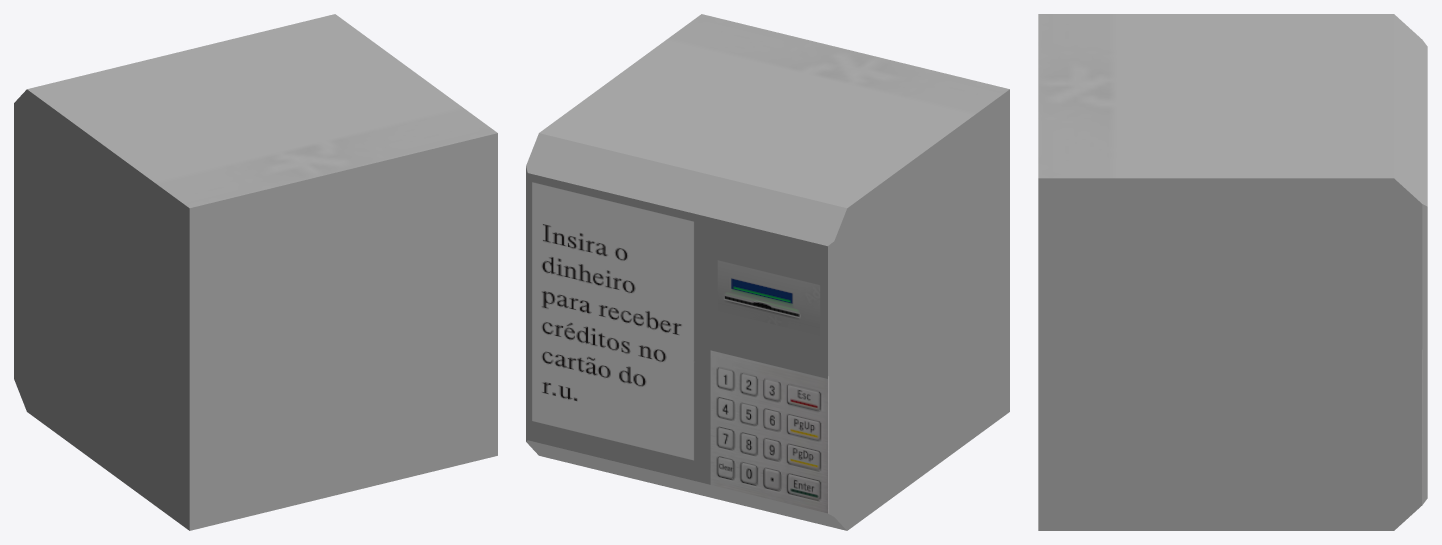
File: maquina_creditos.glb
3 views of the same model, side by side, from view 1: azimuth 30°, elevation 25°; view 2: azimuth 150°, elevation 25°; view 3: azimuth 270°, elevation 25° (orthographic). The views are drawn at different scales.
Visible parts, largest first — view 1: maquina_credito; view 2: maquina_credito; view 3: maquina_credito.
Part boxes in pixels (x1,y1,x2,y2): maquina_credito: (14, 14, 497, 530); maquina_credito: (526, 14, 1009, 530); maquina_credito: (1038, 14, 1427, 530).
Bounding box in the file's own units: 0.7615 × 0.7615 × 0.7615.
Materials: 1 (1 with a texture image).
